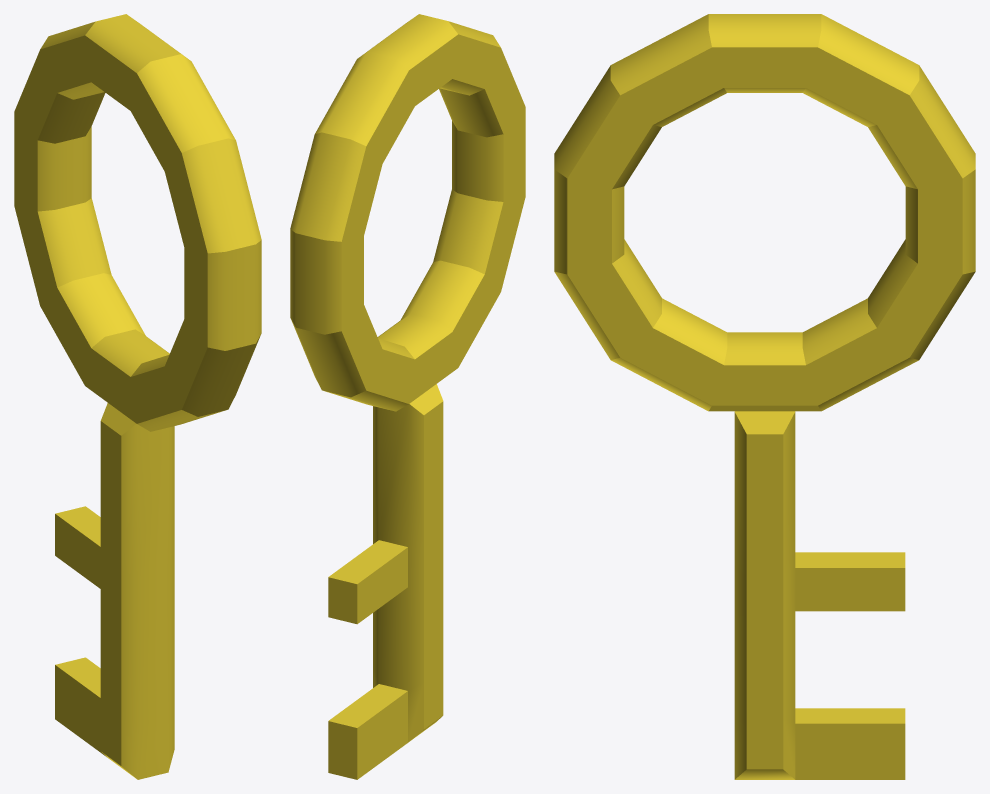
Rendered from key.fbx.
3 renders of one model, left to right at view 1: azimuth 30°, elevation 25°; view 2: azimuth 150°, elevation 25°; view 3: azimuth 270°, elevation 25°, orthographic. The views are drawn at different scales.
Visible parts, largest first — view 1: pPipe1; view 2: pPipe1; view 3: pPipe1.
Part boxes in pixels (box(x1,y1,x2,y2)): pPipe1: box(14, 14, 261, 779); pPipe1: box(290, 14, 525, 779); pPipe1: box(554, 14, 975, 779).
Size of the model in its own units: 27 by 342 by 174.
